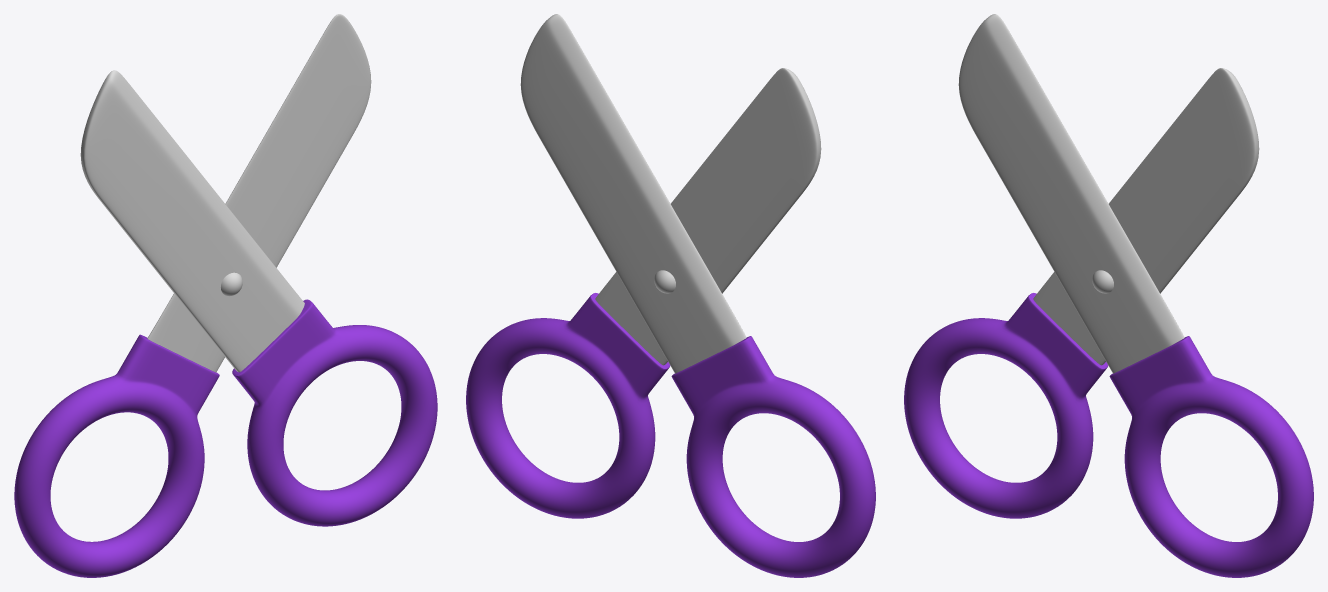
File: scissor.fbx
The picture shows the model from 3 angles, left to right: view 1: azimuth 30°, elevation 25°; view 2: azimuth 150°, elevation 25°; view 3: azimuth 330°, elevation 25°; orthographic projection.
Parts seen in each view (by area): view 1: scissor_01.001; view 2: scissor_01.001; view 3: scissor_01.001.
Part boxes in pixels (box(x1,y1,x2,y2)): scissor_01.001: box(14, 14, 437, 577); scissor_01.001: box(466, 14, 875, 577); scissor_01.001: box(904, 14, 1313, 577).
Size of the model in its own units: 165 by 194 by 16.53.
